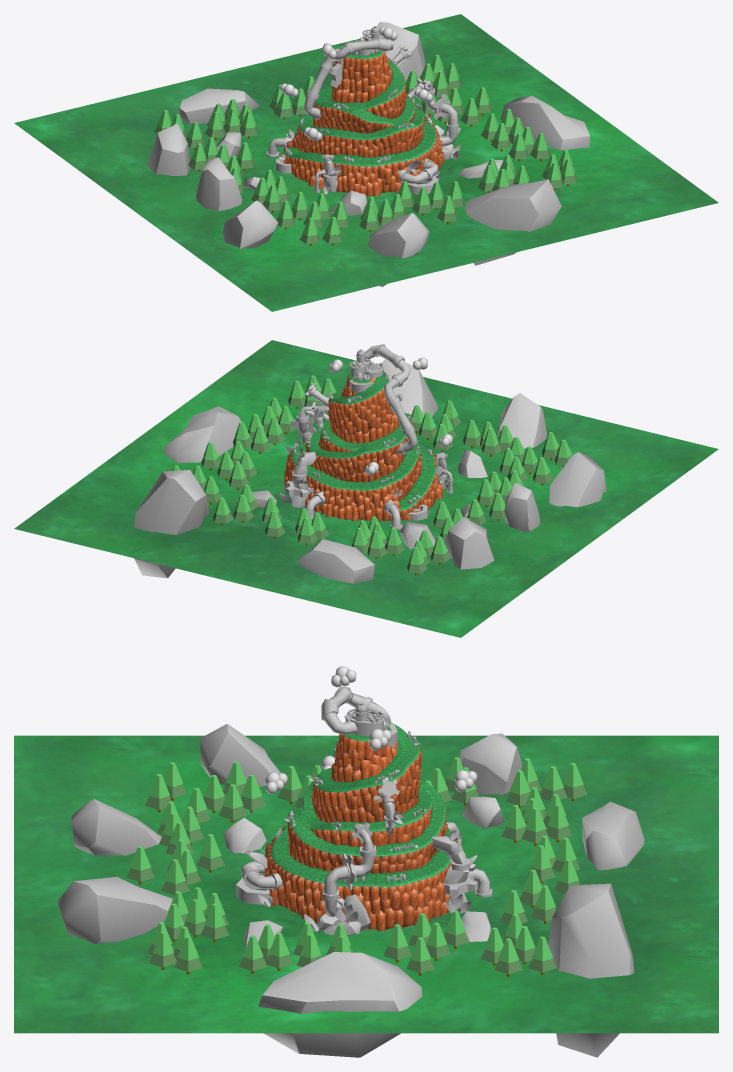
The model's file is Final_Underground.fbx.
3 renders of one model, top to bottom at view 1: azimuth 30°, elevation 25°; view 2: azimuth 150°, elevation 25°; view 3: azimuth 270°, elevation 25°, orthographic. The views are drawn at different scales.
Parts seen in each view (by area): view 1: Base_Plane_Grass, Rocks, Trees, Stone, Grass2, Buis_Hoek, Buis_Eind, Wolken, Buis_Recht, Grass_Spriet; view 2: Base_Plane_Grass, Rocks, Trees, Stone, Grass2, Buis_Hoek, Buis_Eind, Buis_Recht, Wolken, Grass_Spriet, Final_Base; view 3: Base_Plane_Grass, Rocks, Trees, Stone, Grass2, Buis_Hoek, Grass_Spriet, Wolken, Buis_Eind, Final_Base, Windows.
Part boxes in pixels (box(x1,y1,x2,y2)): Base_Plane_Grass: box(14, 14, 718, 311); Rocks: box(147, 22, 589, 286); Trees: box(154, 54, 577, 246); Stone: box(283, 51, 444, 196); Grass2: box(283, 51, 436, 166); Buis_Hoek: box(268, 44, 458, 183); Buis_Eind: box(266, 37, 458, 192); Wolken: box(280, 27, 432, 140); Buis_Recht: box(308, 38, 421, 191); Grass_Spriet: box(278, 40, 462, 194); Base_Plane_Grass: box(14, 340, 718, 637); Rocks: box(134, 359, 606, 583); Trees: box(172, 375, 571, 575); Stone: box(284, 374, 443, 521); Grass2: box(291, 371, 435, 510); Buis_Hoek: box(298, 348, 452, 527); Buis_Eind: box(292, 344, 453, 529); Buis_Recht: box(311, 345, 452, 491); Wolken: box(328, 357, 453, 475); Grass_Spriet: box(279, 374, 456, 511); Final_Base: box(350, 349, 383, 377); Base_Plane_Grass: box(14, 735, 718, 1033); Rocks: box(57, 721, 644, 1057); Trees: box(126, 757, 587, 976); Stone: box(262, 729, 458, 931); Grass2: box(271, 721, 451, 887); Buis_Hoek: box(241, 692, 490, 916); Grass_Spriet: box(245, 721, 477, 932); Wolken: box(265, 666, 477, 794); Buis_Eind: box(242, 686, 492, 911); Final_Base: box(344, 702, 384, 736); Windows: box(236, 722, 397, 904).
Bounding box in the file's own units: 108 × 44.77 × 108.
